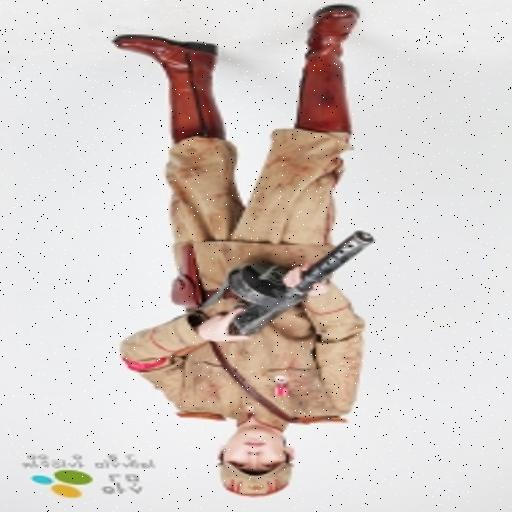north army: (119, 41, 366, 512)
